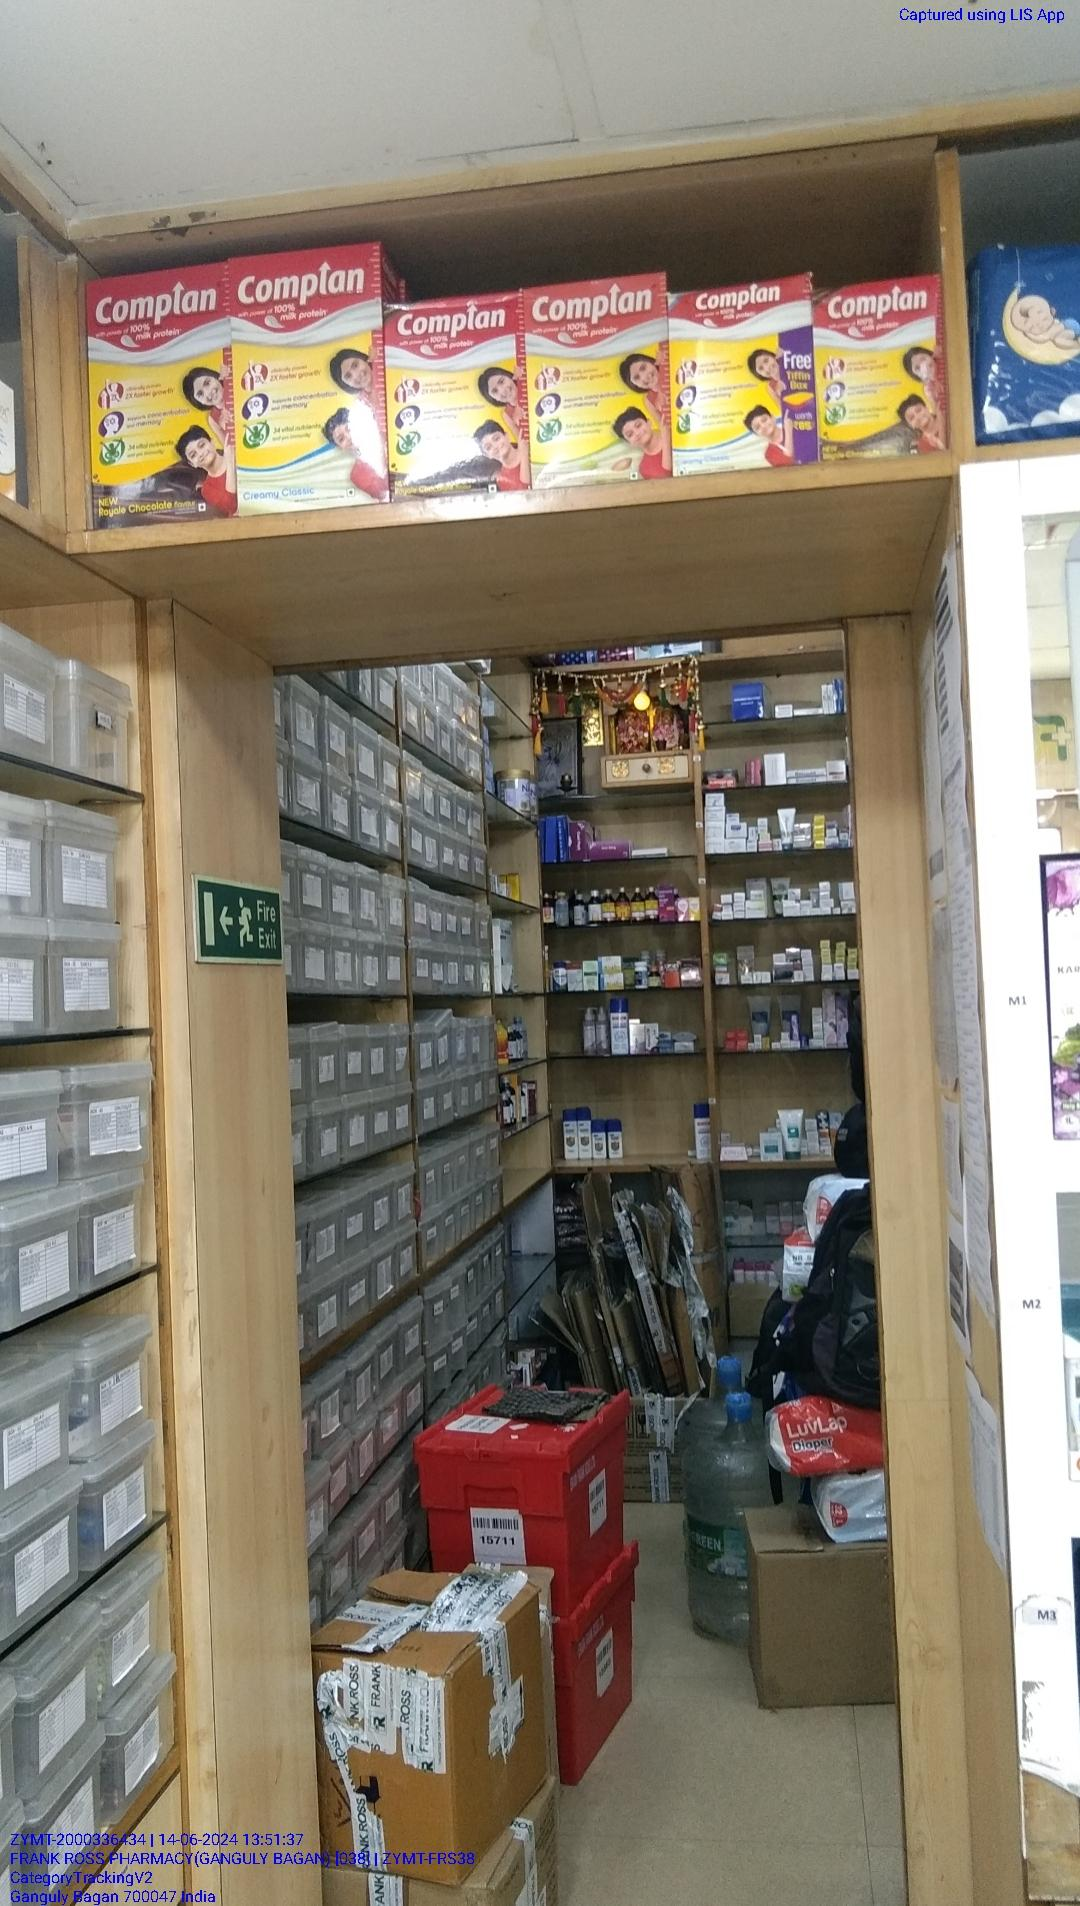COMPLAN_CHOCOLATE_500_GMS_PACK: (89, 272, 232, 517), (386, 302, 521, 495), (817, 289, 944, 450)
COMPLAN_CREAMY_CLASSIC_500_G_PACK: (237, 251, 380, 501), (669, 292, 812, 463)
COMPLAN_KESAR_BADAM_500_GMS_PACK: (526, 275, 664, 479)
